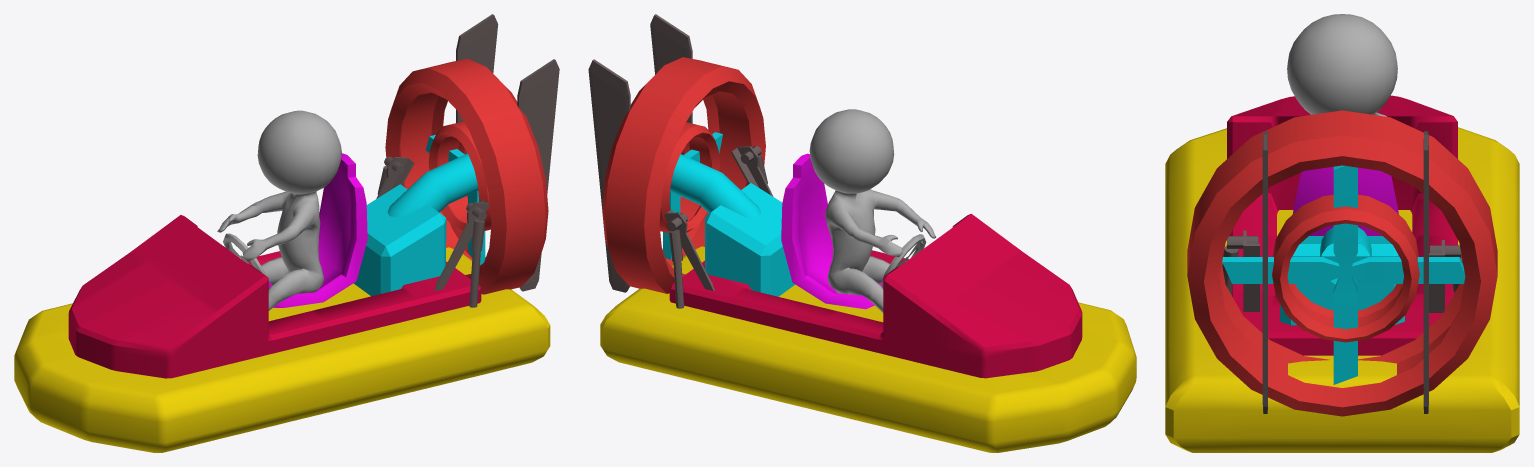
File: boat_moto.fbx
3 views of the same model, side by side, from view 1: azimuth 30°, elevation 25°; view 2: azimuth 150°, elevation 25°; view 3: azimuth 270°, elevation 25° (orthographic). The views are drawn at different scales.
Parts seen in each view (by area): view 1: polySurface2086; view 2: polySurface2086; view 3: polySurface2086.
Boxes of the visible parts, x1,y1,x2,y2 form: polySurface2086: (14,14,559,452); polySurface2086: (588,14,1136,452); polySurface2086: (1165,14,1519,452).
Size of the model in its own units: 406 by 211 by 191.
